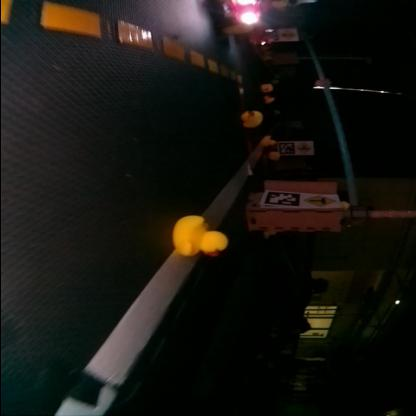Duckie: (173, 215, 229, 256), (242, 110, 264, 127), (262, 136, 276, 146), (262, 84, 274, 92), (269, 152, 280, 159), (264, 96, 274, 102)
Duckiebot: (212, 0, 274, 35)
Intersection sign: (308, 194, 336, 206), (296, 142, 312, 154)
QR code: (266, 191, 301, 205), (278, 143, 295, 153)
